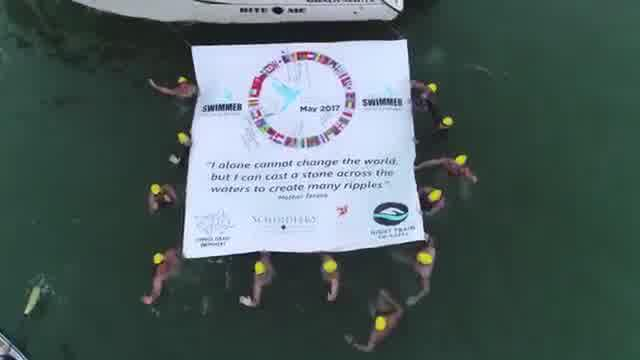human: (344, 288, 406, 352), (394, 232, 436, 308), (142, 248, 183, 302), (416, 152, 481, 184), (242, 251, 274, 310), (314, 251, 345, 302), (146, 74, 196, 100), (412, 184, 447, 221), (407, 80, 443, 115), (140, 178, 176, 211)
